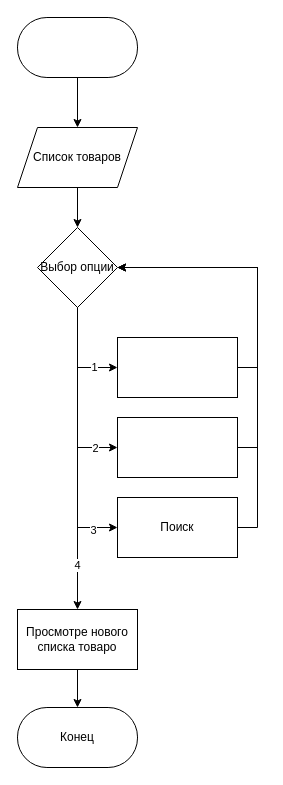
Some shapes in this 283 by 785 pixel diagram are drawn without their labels. Here are the shapes that lost their labels. From the top down, the centre of each, then its label:
the point at 77,47: Начало
the point at 177,367: Фильтрация
the point at 177,447: Сортировка
